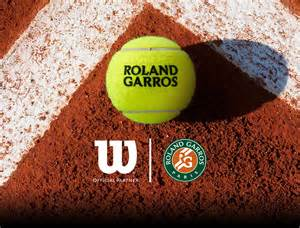tennis_ball: (106, 36, 195, 124)
